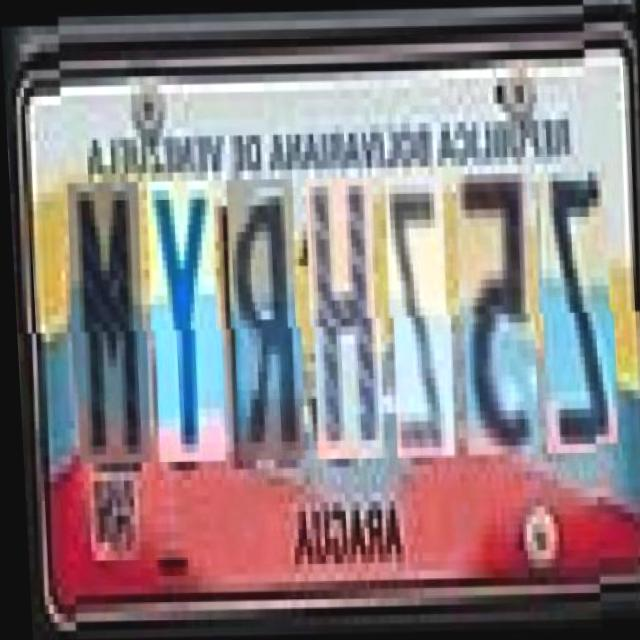5: (449, 174, 536, 456)
h: (299, 176, 382, 458)
m: (61, 181, 148, 463)
r: (220, 178, 303, 460)
y: (141, 179, 223, 461)
z: (528, 173, 615, 453), (379, 174, 453, 456)
